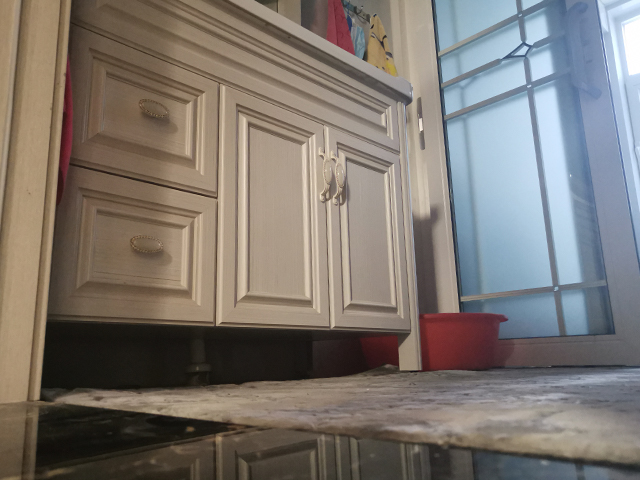cabinet: (46, 1, 425, 375)
carpet: (39, 365, 640, 468)
